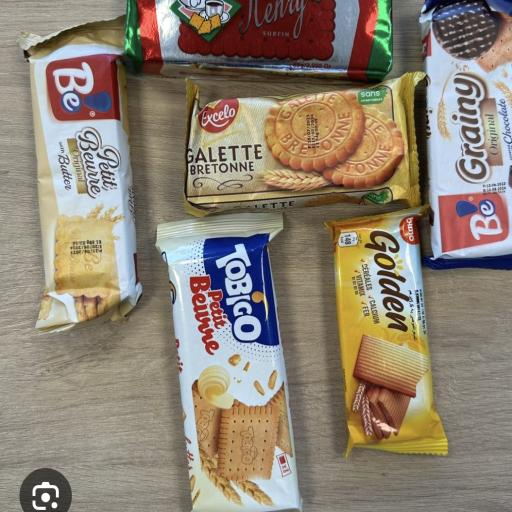petit_beurre: (16, 16, 196, 378)
